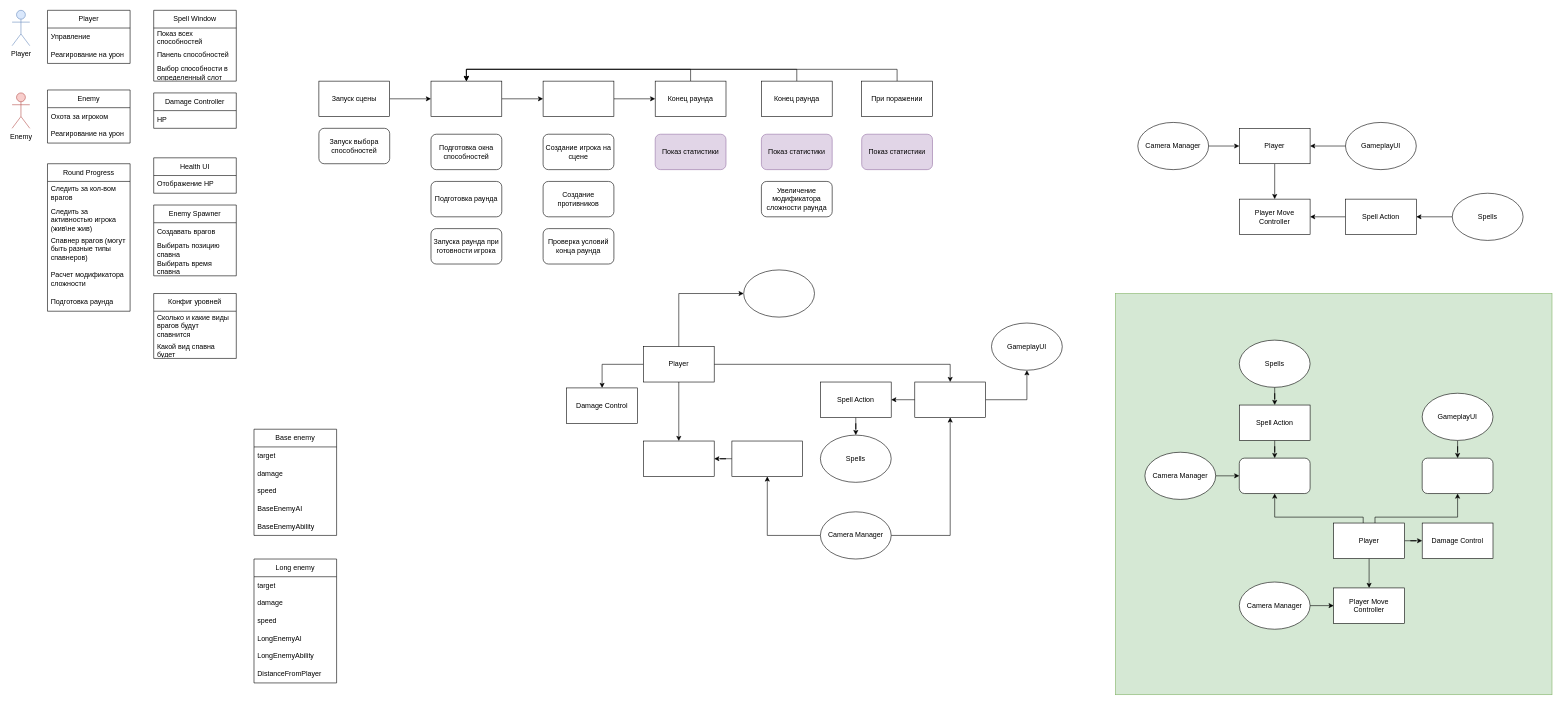
This 1562x705 diagram has some shape labels left out. The centre of each missing label's shape, as x and y in pixels:
"Player camera" belongs at pixel 767 458.
"Player Controller" belongs at pixel 678 458.
"Player Interact" belongs at pixel 950 399.
"Player Spell Controller" belongs at pixel 1274 476.
"Player Ui Controller" belongs at pixel 1457 476.
"Zenject" belongs at pixel 778 293.
"Выбор способностей" belongs at pixel 466 99.
"Начало раунда" belongs at pixel 578 99.
